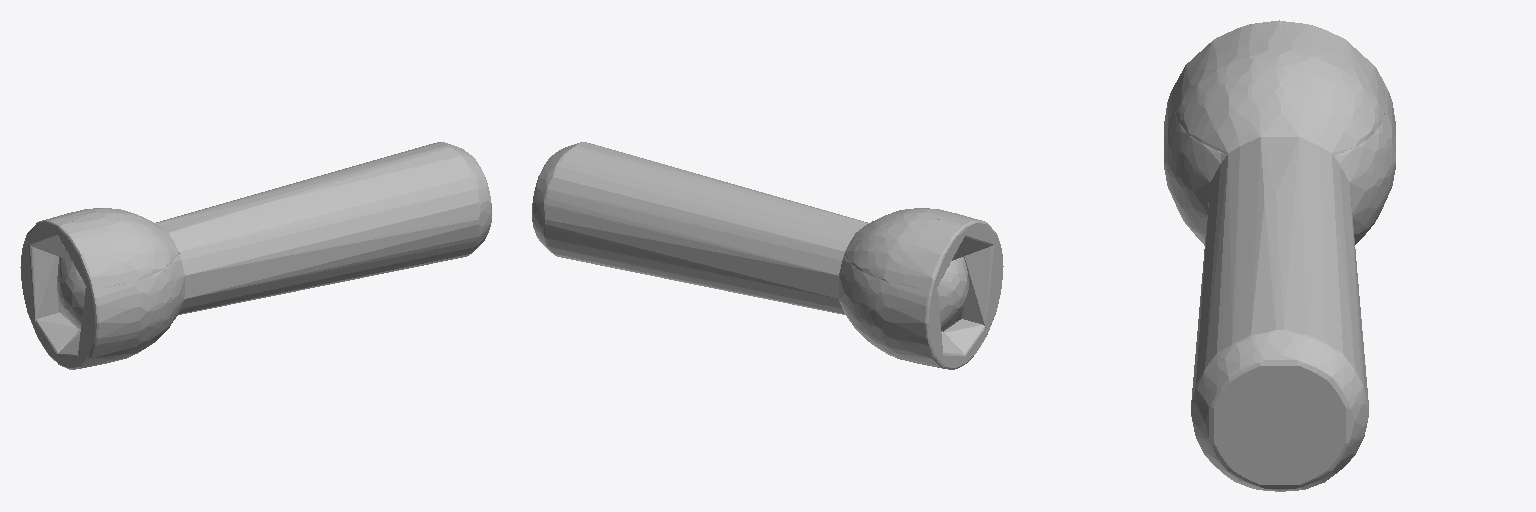
The robot description file, URDF, robot "root":
<robot name="root">
  <link name="link_coacd_convex_piece_0">
    <inertial>
      <origin xyz="0 0 0" rpy="0 0 0"/>
      <inertia ixx="3.39E-03" ixy="1.43E-06" ixz="-5.18E-06" iyy="3.54E-02" iyz="1.19E-06" izz="3.54E-02"/>
    </inertial>
    <visual>
      <origin xyz="0 0 0" rpy="0 0 0"/>
      <geometry>
        <mesh filename="coacd_convex_piece_0.obj" scale="1.0000E+00 1.0000E+00 1.0000E+00"/>
      </geometry>
      <material name="">
        <color rgba="7.50E-01 7.50E-01 7.50E-01 1"/>
      </material>
    </visual>
    <collision>
      <origin xyz="0 0 0" rpy="0 0 0"/>
      <geometry>
        <mesh filename="coacd_convex_piece_0.obj" scale="1.0000E+00 1.0000E+00 1.0000E+00"/>
      </geometry>
    </collision>
  </link>
  <link name="link_coacd_convex_piece_1">
    <inertial>
      <origin xyz="0 0 0" rpy="0 0 0"/>
      <inertia ixx="5.53E-04" ixy="7.95E-04" ixz="1.41E-03" iyy="5.68E-03" iyz="-1.99E-04" izz="5.45E-03"/>
    </inertial>
    <visual>
      <origin xyz="0 0 0" rpy="0 0 0"/>
      <geometry>
        <mesh filename="coacd_convex_piece_1.obj" scale="1.0000E+00 1.0000E+00 1.0000E+00"/>
      </geometry>
      <material name="">
        <color rgba="7.50E-01 7.50E-01 7.50E-01 1"/>
      </material>
    </visual>
    <collision>
      <origin xyz="0 0 0" rpy="0 0 0"/>
      <geometry>
        <mesh filename="coacd_convex_piece_1.obj" scale="1.0000E+00 1.0000E+00 1.0000E+00"/>
      </geometry>
    </collision>
  </link>
  <joint name="link_coacd_convex_piece_1_joint" type="fixed">
    <origin xyz="0 0 0" rpy="0 0 0"/>
    <parent link="link_coacd_convex_piece_0"/>
    <child link="link_coacd_convex_piece_1"/>
  </joint>
  <link name="link_coacd_convex_piece_2">
    <inertial>
      <origin xyz="0 0 0" rpy="0 0 0"/>
      <inertia ixx="5.68E-04" ixy="-7.63E-04" ixz="1.48E-03" iyy="5.87E-03" iyz="1.93E-04" izz="5.60E-03"/>
    </inertial>
    <visual>
      <origin xyz="0 0 0" rpy="0 0 0"/>
      <geometry>
        <mesh filename="coacd_convex_piece_2.obj" scale="1.0000E+00 1.0000E+00 1.0000E+00"/>
      </geometry>
      <material name="">
        <color rgba="7.50E-01 7.50E-01 7.50E-01 1"/>
      </material>
    </visual>
    <collision>
      <origin xyz="0 0 0" rpy="0 0 0"/>
      <geometry>
        <mesh filename="coacd_convex_piece_2.obj" scale="1.0000E+00 1.0000E+00 1.0000E+00"/>
      </geometry>
    </collision>
  </link>
  <joint name="link_coacd_convex_piece_2_joint" type="fixed">
    <origin xyz="0 0 0" rpy="0 0 0"/>
    <parent link="link_coacd_convex_piece_1"/>
    <child link="link_coacd_convex_piece_2"/>
  </joint>
  <link name="link_coacd_convex_piece_3">
    <inertial>
      <origin xyz="0 0 0" rpy="0 0 0"/>
      <inertia ixx="6.37E-04" ixy="1.74E-03" ixz="-2.38E-04" iyy="5.75E-03" iyz="6.44E-05" izz="6.21E-03"/>
    </inertial>
    <visual>
      <origin xyz="0 0 0" rpy="0 0 0"/>
      <geometry>
        <mesh filename="coacd_convex_piece_3.obj" scale="1.0000E+00 1.0000E+00 1.0000E+00"/>
      </geometry>
      <material name="">
        <color rgba="7.50E-01 7.50E-01 7.50E-01 1"/>
      </material>
    </visual>
    <collision>
      <origin xyz="0 0 0" rpy="0 0 0"/>
      <geometry>
        <mesh filename="coacd_convex_piece_3.obj" scale="1.0000E+00 1.0000E+00 1.0000E+00"/>
      </geometry>
    </collision>
  </link>
  <joint name="link_coacd_convex_piece_3_joint" type="fixed">
    <origin xyz="0 0 0" rpy="0 0 0"/>
    <parent link="link_coacd_convex_piece_2"/>
    <child link="link_coacd_convex_piece_3"/>
  </joint>
  <link name="link_coacd_convex_piece_4">
    <inertial>
      <origin xyz="0 0 0" rpy="0 0 0"/>
      <inertia ixx="7.58E-04" ixy="-2.08E-03" ixz="-3.42E-04" iyy="7.23E-03" iyz="-8.63E-05" izz="7.72E-03"/>
    </inertial>
    <visual>
      <origin xyz="0 0 0" rpy="0 0 0"/>
      <geometry>
        <mesh filename="coacd_convex_piece_4.obj" scale="1.0000E+00 1.0000E+00 1.0000E+00"/>
      </geometry>
      <material name="">
        <color rgba="7.50E-01 7.50E-01 7.50E-01 1"/>
      </material>
    </visual>
    <collision>
      <origin xyz="0 0 0" rpy="0 0 0"/>
      <geometry>
        <mesh filename="coacd_convex_piece_4.obj" scale="1.0000E+00 1.0000E+00 1.0000E+00"/>
      </geometry>
    </collision>
  </link>
  <joint name="link_coacd_convex_piece_4_joint" type="fixed">
    <origin xyz="0 0 0" rpy="0 0 0"/>
    <parent link="link_coacd_convex_piece_3"/>
    <child link="link_coacd_convex_piece_4"/>
  </joint>
  <link name="link_coacd_convex_piece_5">
    <inertial>
      <origin xyz="0 0 0" rpy="0 0 0"/>
      <inertia ixx="5.61E-04" ixy="1.58E-04" ixz="-5.44E-04" iyy="1.48E-02" iyz="5.19E-07" izz="1.48E-02"/>
    </inertial>
    <visual>
      <origin xyz="0 0 0" rpy="0 0 0"/>
      <geometry>
        <mesh filename="coacd_convex_piece_5.obj" scale="1.0000E+00 1.0000E+00 1.0000E+00"/>
      </geometry>
      <material name="">
        <color rgba="7.50E-01 7.50E-01 7.50E-01 1"/>
      </material>
    </visual>
    <collision>
      <origin xyz="0 0 0" rpy="0 0 0"/>
      <geometry>
        <mesh filename="coacd_convex_piece_5.obj" scale="1.0000E+00 1.0000E+00 1.0000E+00"/>
      </geometry>
    </collision>
  </link>
  <joint name="link_coacd_convex_piece_5_joint" type="fixed">
    <origin xyz="0 0 0" rpy="0 0 0"/>
    <parent link="link_coacd_convex_piece_4"/>
    <child link="link_coacd_convex_piece_5"/>
  </joint>
  <link name="link_coacd_convex_piece_6">
    <inertial>
      <origin xyz="0 0 0" rpy="0 0 0"/>
      <inertia ixx="3.30E-04" ixy="3.37E-04" ixz="-9.02E-04" iyy="3.21E-03" iyz="1.00E-04" izz="2.99E-03"/>
    </inertial>
    <visual>
      <origin xyz="0 0 0" rpy="0 0 0"/>
      <geometry>
        <mesh filename="coacd_convex_piece_6.obj" scale="1.0000E+00 1.0000E+00 1.0000E+00"/>
      </geometry>
      <material name="">
        <color rgba="7.50E-01 7.50E-01 7.50E-01 1"/>
      </material>
    </visual>
    <collision>
      <origin xyz="0 0 0" rpy="0 0 0"/>
      <geometry>
        <mesh filename="coacd_convex_piece_6.obj" scale="1.0000E+00 1.0000E+00 1.0000E+00"/>
      </geometry>
    </collision>
  </link>
  <joint name="link_coacd_convex_piece_6_joint" type="fixed">
    <origin xyz="0 0 0" rpy="0 0 0"/>
    <parent link="link_coacd_convex_piece_5"/>
    <child link="link_coacd_convex_piece_6"/>
  </joint>
  <link name="link_coacd_convex_piece_7">
    <inertial>
      <origin xyz="0 0 0" rpy="0 0 0"/>
      <inertia ixx="2.82E-04" ixy="-2.26E-04" ixz="-7.80E-04" iyy="2.68E-03" iyz="-7.05E-05" izz="2.46E-03"/>
    </inertial>
    <visual>
      <origin xyz="0 0 0" rpy="0 0 0"/>
      <geometry>
        <mesh filename="coacd_convex_piece_7.obj" scale="1.0000E+00 1.0000E+00 1.0000E+00"/>
      </geometry>
      <material name="">
        <color rgba="7.50E-01 7.50E-01 7.50E-01 1"/>
      </material>
    </visual>
    <collision>
      <origin xyz="0 0 0" rpy="0 0 0"/>
      <geometry>
        <mesh filename="coacd_convex_piece_7.obj" scale="1.0000E+00 1.0000E+00 1.0000E+00"/>
      </geometry>
    </collision>
  </link>
  <joint name="link_coacd_convex_piece_7_joint" type="fixed">
    <origin xyz="0 0 0" rpy="0 0 0"/>
    <parent link="link_coacd_convex_piece_6"/>
    <child link="link_coacd_convex_piece_7"/>
  </joint>
</robot>

--- What the picture shows (computed from the rendered views, not written in the file) ---
The picture shows the robot from 3 angles, left to right: view 1: azimuth 30°, elevation 25°; view 2: azimuth 150°, elevation 25°; view 3: azimuth 270°, elevation 25°; orthographic projection.
Robot: root — 8 links, 7 joints (7 fixed); root link link_coacd_convex_piece_0; default pose: all joints at 0.
Visible links, largest first — view 1: link_coacd_convex_piece_0, link_coacd_convex_piece_4, link_coacd_convex_piece_2, link_coacd_convex_piece_3, link_coacd_convex_piece_1, link_coacd_convex_piece_5, link_coacd_convex_piece_6; view 2: link_coacd_convex_piece_0, link_coacd_convex_piece_3, link_coacd_convex_piece_1, link_coacd_convex_piece_4, link_coacd_convex_piece_5, link_coacd_convex_piece_2, link_coacd_convex_piece_7, link_coacd_convex_piece_6; view 3: link_coacd_convex_piece_0, link_coacd_convex_piece_2, link_coacd_convex_piece_1, link_coacd_convex_piece_4, link_coacd_convex_piece_3.
Boxes of the visible links, x1=… form: link_coacd_convex_piece_0: x1=155, y1=142, x2=491, y2=314; link_coacd_convex_piece_4: x1=78, y1=257, x2=184, y2=368; link_coacd_convex_piece_2: x1=57, y1=213, x2=178, y2=289; link_coacd_convex_piece_3: x1=20, y1=242, x2=58, y2=332; link_coacd_convex_piece_1: x1=24, y1=208, x2=159, y2=261; link_coacd_convex_piece_5: x1=57, y1=254, x2=180, y2=330; link_coacd_convex_piece_6: x1=36, y1=312, x2=80, y2=361; link_coacd_convex_piece_0: x1=532, y1=142, x2=868, y2=314; link_coacd_convex_piece_3: x1=839, y1=260, x2=942, y2=367; link_coacd_convex_piece_1: x1=845, y1=214, x2=964, y2=290; link_coacd_convex_piece_4: x1=962, y1=241, x2=1003, y2=336; link_coacd_convex_piece_5: x1=840, y1=254, x2=968, y2=331; link_coacd_convex_piece_2: x1=864, y1=208, x2=998, y2=260; link_coacd_convex_piece_7: x1=944, y1=319, x2=985, y2=363; link_coacd_convex_piece_6: x1=881, y1=331, x2=964, y2=369; link_coacd_convex_piece_0: x1=1191, y1=137, x2=1368, y2=491; link_coacd_convex_piece_2: x1=1175, y1=20, x2=1281, y2=154; link_coacd_convex_piece_1: x1=1282, y1=21, x2=1385, y2=155; link_coacd_convex_piece_4: x1=1164, y1=82, x2=1220, y2=245; link_coacd_convex_piece_3: x1=1348, y1=83, x2=1395, y2=244.
Size in the robot's own frame: 1.87 by 0.6093 by 0.6093 metres.
8 mesh visuals loaded from 8 distinct referenced files (8 OBJ).
